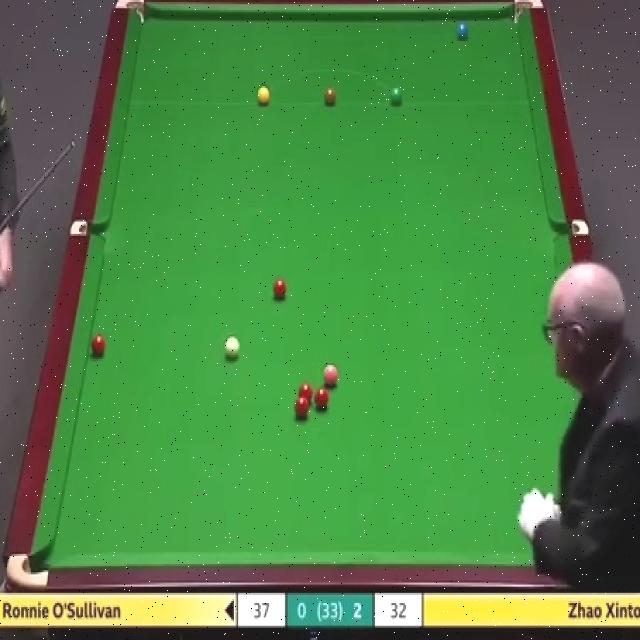blue-ball: (457, 21, 468, 43)
brown-ball: (323, 88, 337, 105)
green-ball: (389, 85, 404, 108)
pink-ball: (323, 362, 339, 387)
red-ball: (88, 333, 107, 359), (314, 387, 330, 411), (298, 382, 312, 406), (271, 278, 287, 298), (295, 396, 309, 417)
white-ball: (223, 334, 240, 359)
yellow-ball: (256, 85, 271, 106)
